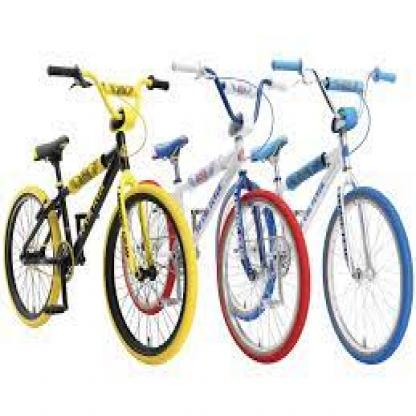Bike: (4, 62, 198, 370)
